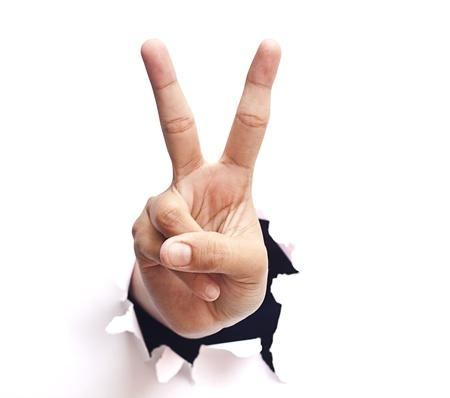peace_sign: (124, 32, 287, 342)
